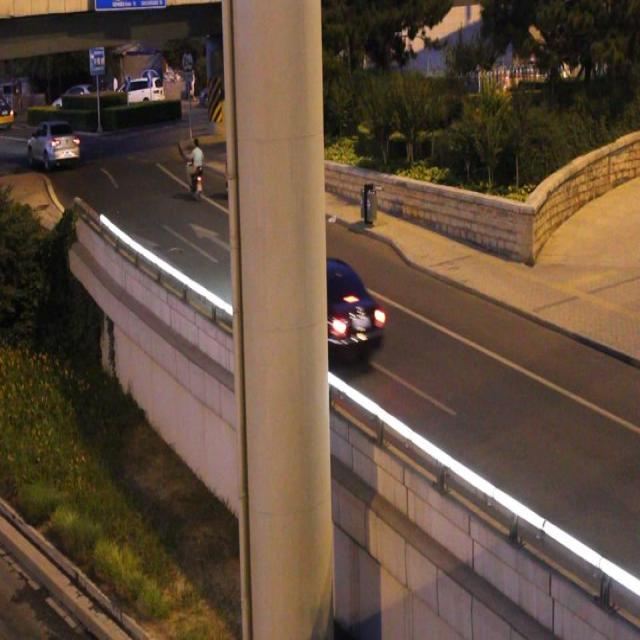car: (264, 260, 384, 354)
